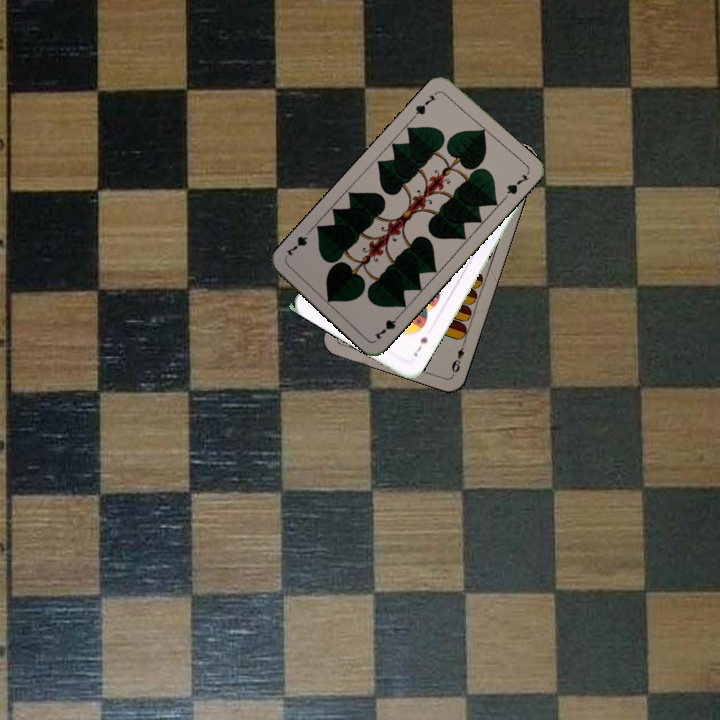E9: (447, 338, 468, 377)
G7: (370, 309, 404, 342), (409, 91, 439, 121)
S7: (410, 333, 430, 359)
